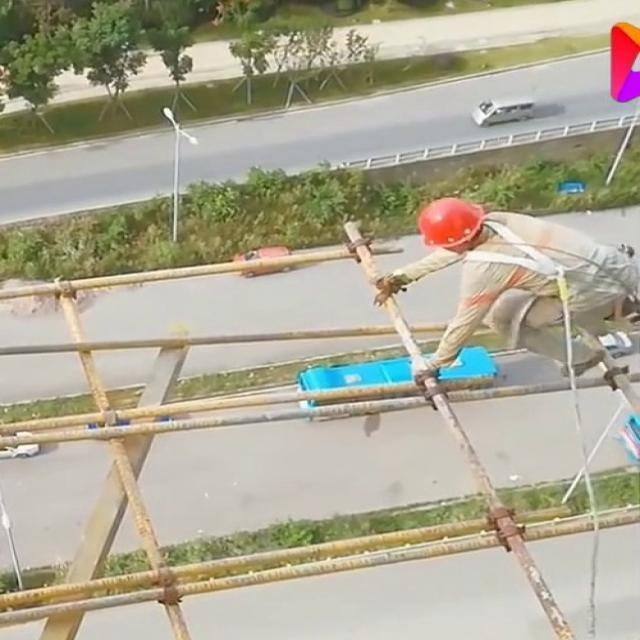Arnes_seguridad: (456, 212, 593, 311)
